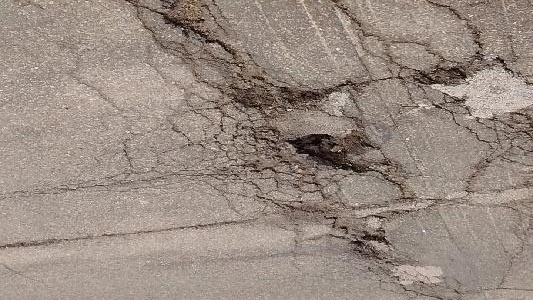pothole: (283, 127, 364, 174), (230, 83, 321, 112), (157, 0, 215, 36), (348, 226, 396, 262), (414, 59, 471, 86)
